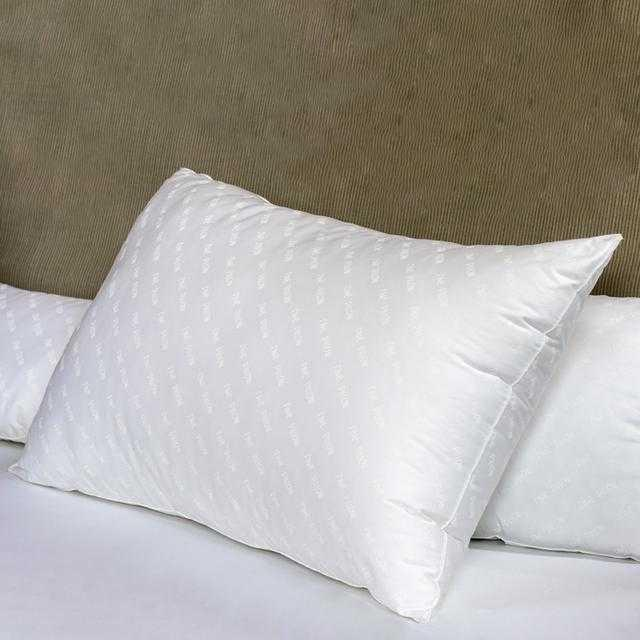pillow: (4, 165, 624, 623)
